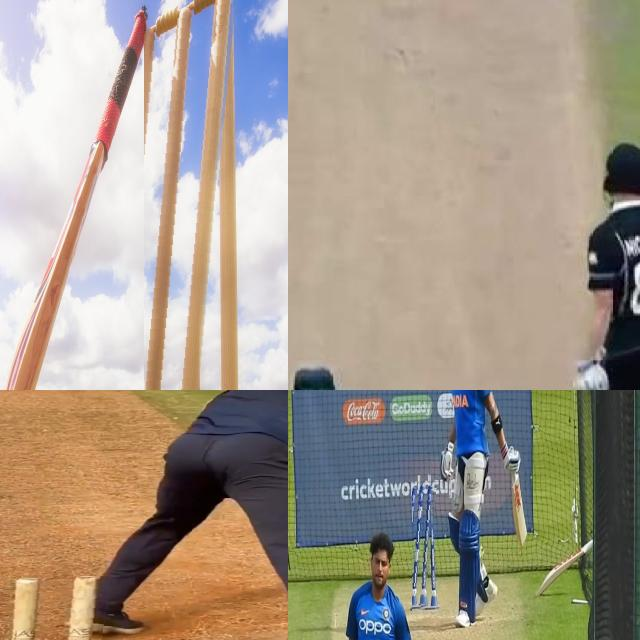Stumps: (144, 0, 237, 390), (0, 576, 109, 640), (412, 485, 437, 612)
